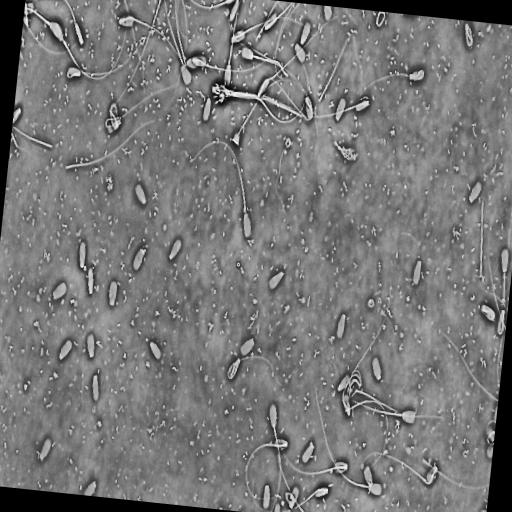coiled-tail: (226, 354, 289, 388), (101, 92, 127, 138), (480, 303, 497, 324), (464, 21, 475, 50), (407, 68, 426, 84)
loose-head: (131, 244, 147, 273), (267, 269, 285, 294), (468, 178, 484, 206), (38, 435, 53, 464), (300, 439, 316, 465), (333, 96, 347, 124), (58, 337, 73, 363), (134, 180, 148, 207), (168, 237, 183, 262), (239, 336, 256, 358), (335, 311, 347, 342), (148, 338, 162, 362), (411, 258, 422, 288), (201, 95, 212, 125), (52, 279, 67, 301), (293, 42, 307, 64), (371, 354, 382, 382), (299, 21, 311, 46), (108, 279, 118, 309), (337, 374, 352, 393), (78, 239, 87, 270), (91, 372, 100, 403), (86, 330, 95, 360), (262, 483, 271, 510), (87, 266, 94, 296)
loose-tail: (62, 116, 160, 172), (342, 399, 390, 482), (318, 31, 365, 104)
normal: (313, 383, 383, 499), (341, 269, 393, 418), (256, 14, 339, 99), (187, 137, 253, 241), (51, 2, 130, 81), (105, 77, 195, 135), (273, 423, 350, 479), (337, 381, 418, 427), (359, 450, 440, 491), (62, 40, 140, 82), (115, 12, 182, 60), (240, 46, 306, 93), (244, 436, 290, 501), (229, 17, 317, 48), (191, 45, 281, 75), (260, 71, 314, 121), (162, 0, 193, 87), (248, 478, 327, 512), (293, 93, 371, 121), (267, 400, 282, 512)
